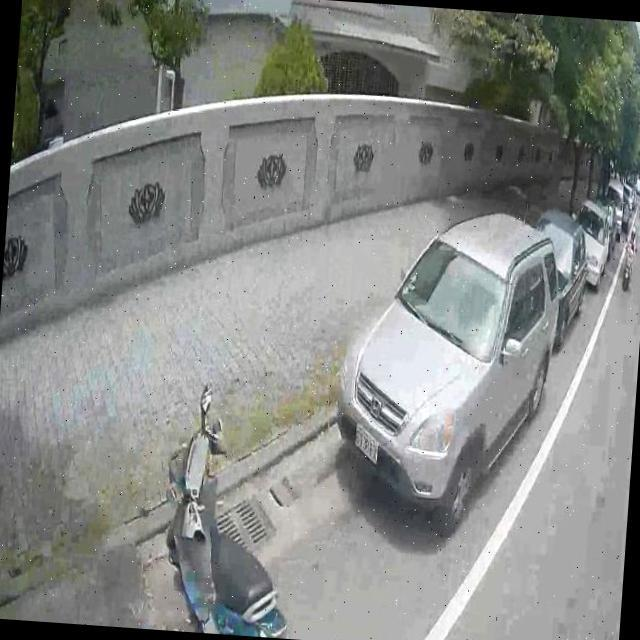person: (626, 226, 638, 252)
